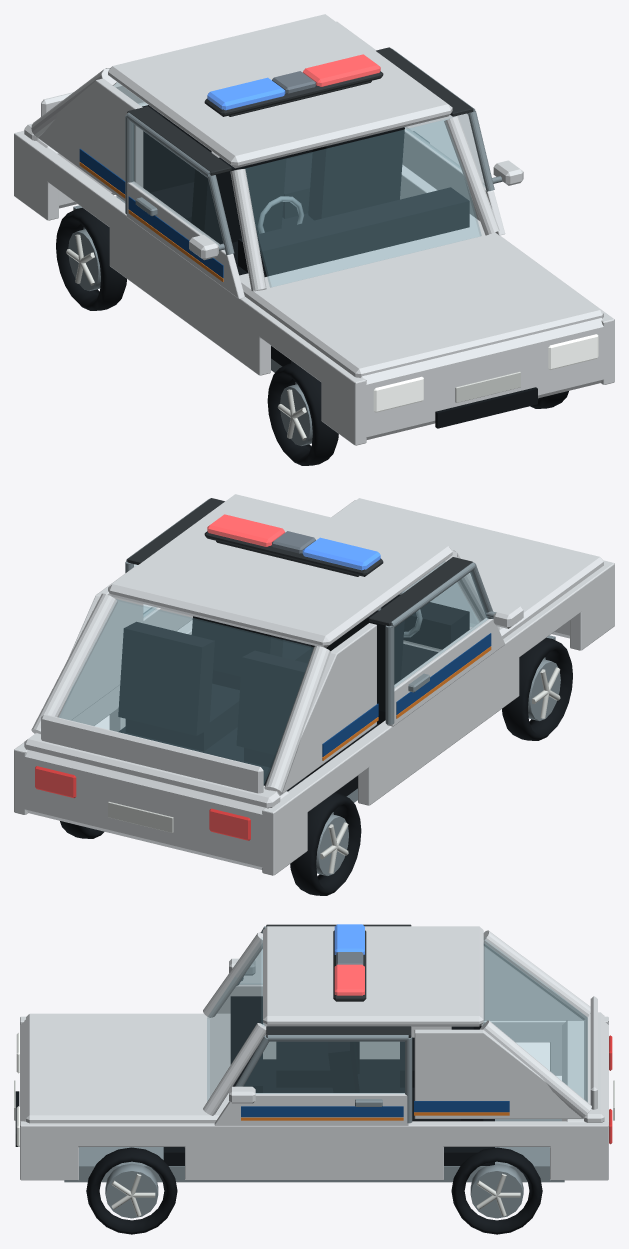
Rendered from sg-police-hd.glb.
3 views of the same model, one above another, from view 1: azimuth 30°, elevation 25°; view 2: azimuth 150°, elevation 25°; view 3: azimuth 270°, elevation 25° (orthographic). The views are drawn at different scales.
Parts seen in each view (by area): view 1: body, wheel_FL, wheel_RL; view 2: body, wheel_RL, wheel_FL; view 3: body, wheel_FR, wheel_RR.
Part boxes in pixels (x1=…): body: x1=14, y1=14, x2=614, y2=445; wheel_FL: x1=267, y1=362, x2=338, y2=465; wheel_RL: x1=56, y1=207, x2=126, y2=310; body: x1=14, y1=494, x2=614, y2=875; wheel_RL: x1=290, y1=792, x2=361, y2=895; wheel_FL: x1=502, y1=637, x2=572, y2=740; body: x1=14, y1=924, x2=614, y2=1182; wheel_FR: x1=86, y1=1147, x2=177, y2=1234; wheel_RR: x1=451, y1=1147, x2=542, y2=1234.
Bounding box in the file's own units: 2.18 × 1.7 × 4.08.
